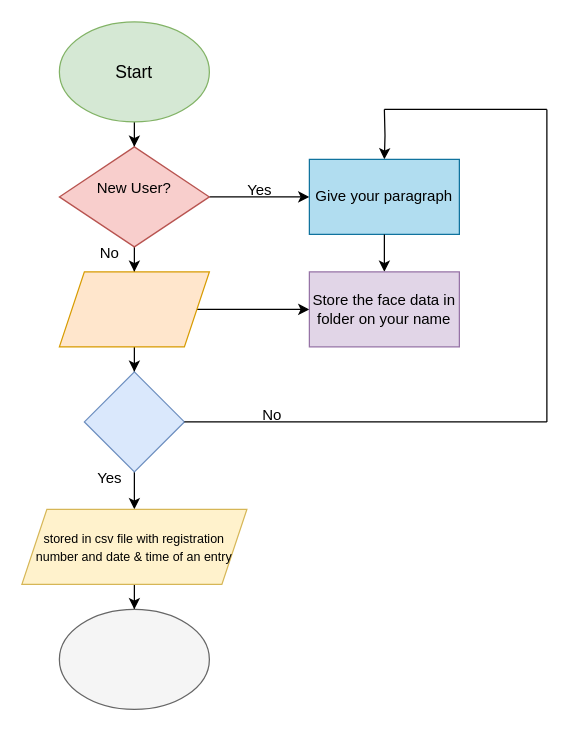
The diagram is 570 pixels wide and 731 high, and some of its shapes have lost their labels. The shapes that lost their labels are listed below. From the top down, each one's box as (x1, y1, x2, y2) in pixels, then its label:
(58, 271, 209, 347): Recognize the face
(83, 371, 184, 472): Face recognized
(58, 608, 209, 709): End
